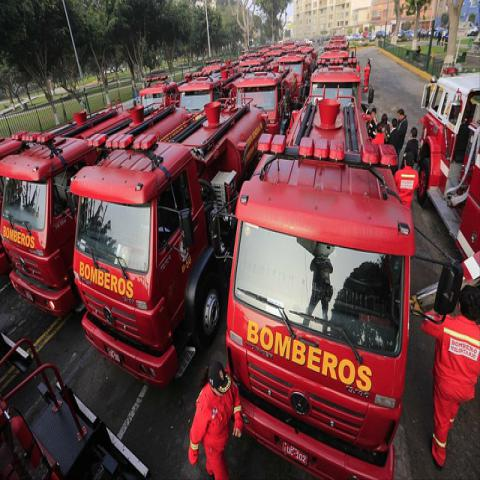truck: (220, 94, 416, 472), (70, 82, 268, 383), (0, 106, 128, 317), (417, 66, 479, 262), (230, 69, 299, 131), (177, 70, 235, 112), (278, 53, 313, 118), (140, 74, 188, 117), (310, 66, 362, 102), (320, 46, 356, 60), (237, 59, 266, 72), (262, 50, 283, 57), (274, 45, 283, 50)
